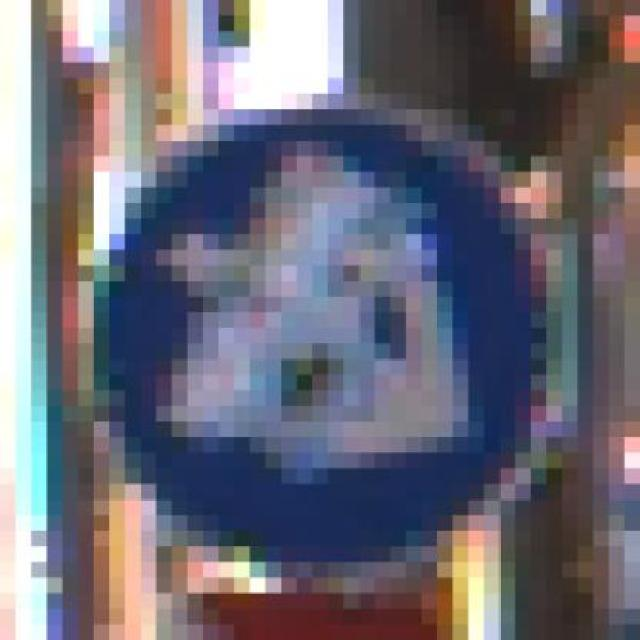Keep-Right: (62, 78, 593, 562)
